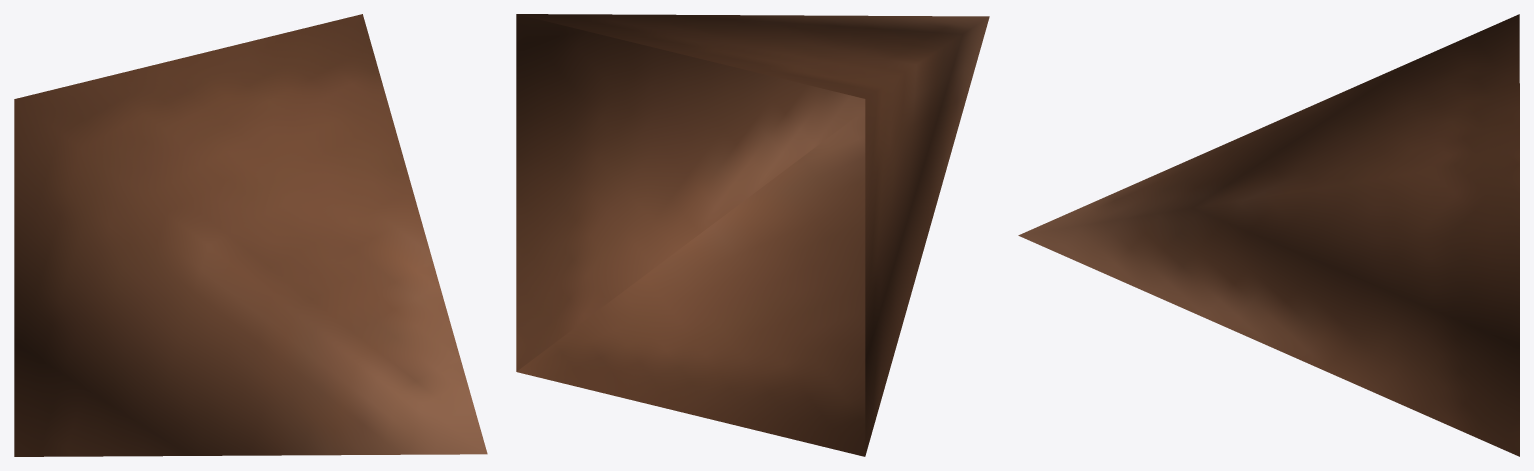
File: sn_jiguan_tielong_010.FBX
3 views of the same model, side by side, from view 1: azimuth 30°, elevation 25°; view 2: azimuth 150°, elevation 25°; view 3: azimuth 270°, elevation 25° (orthographic). The views are drawn at different scales.
Parts seen in each view (by area): view 1: sn_jiguan_tielong_010; view 2: sn_jiguan_tielong_010; view 3: sn_jiguan_tielong_010.
Boxes of the visible parts, x1=… form: sn_jiguan_tielong_010: x1=14, y1=14, x2=487, y2=456; sn_jiguan_tielong_010: x1=516, y1=14, x2=989, y2=456; sn_jiguan_tielong_010: x1=1018, y1=14, x2=1519, y2=456.
Size of the model in its own units: 30.8 by 30.2 by 45.76.
